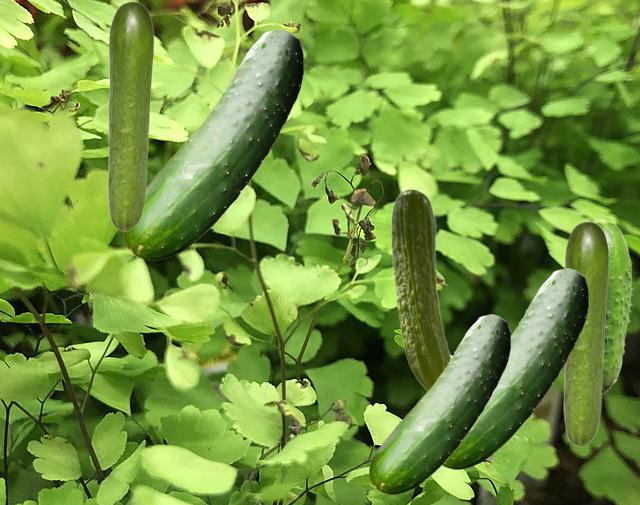cucumber: (123, 29, 302, 259), (443, 268, 587, 468), (369, 314, 509, 493), (390, 188, 451, 391), (107, 1, 153, 231), (563, 221, 608, 446), (590, 218, 632, 394)
